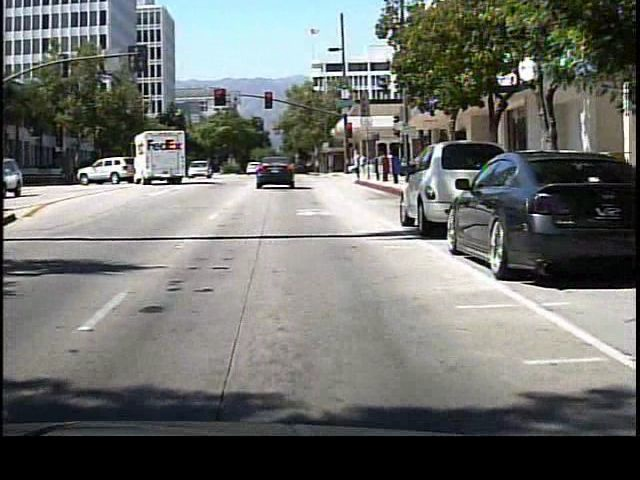person: (348, 147, 367, 184)
